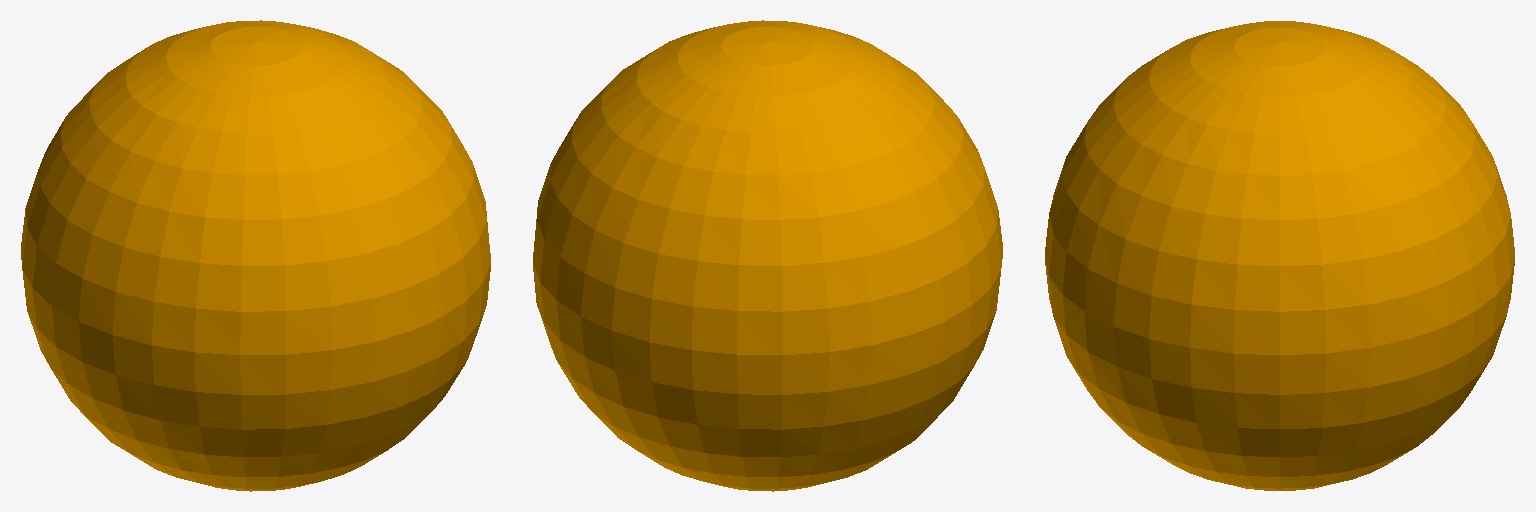
URDF robot description (light_room3):
<?xml version="1.0" ?>

<robot name="light_room3" xmlns:xi="http://www.w3.org/2001/XInclude"
	xmlns:gazebo="http://playerstage.sourceforge.net/gazebo/xmlschema/#gz"
	xmlns:model="http://playerstage.sourceforge.net/gazebo/xmlschema/#model"
	xmlns:sensor="http://playerstage.sourceforge.net/gazebo/xmlschema/#sensor"
	xmlns:body="http://playerstage.sourceforge.net/gazebo/xmlschema/#body"
	xmlns:geom="http://playerstage.sourceforge.net/gazebo/xmlschema/#geom"
	xmlns:joint="http://playerstage.sourceforge.net/gazebo/xmlschema/#joint"
	xmlns:interface="http://playerstage.sourceforge.net/gazebo/xmlschema/#interface"
	xmlns:rendering="http://playerstage.sourceforge.net/gazebo/xmlschema/#rendering"
	xmlns:renderable="http://playerstage.sourceforge.net/gazebo/xmlschema/#renderable"
	xmlns:controller="http://playerstage.sourceforge.net/gazebo/xmlschema/#controller"
	xmlns:physics="http://playerstage.sourceforge.net/gazebo/xmlschema/#physics">

  <link name="bulb_r3">
   <inertial>
	<mass value="1" />
			<com xyz="4.36 2.1 1.9" />
			<inertia ixx="0" ixy="0.0" ixz="0.0" iyy="0" iyz="0.0" izz="0" />
		</inertial>

		<visual>
			<origin xyz="4.36 2.1 1.9" rpy="0 0 0" />  <!--   definition of the visual postion of the object!! -->
			<geometry>
				<sphere radius="0.0001" />
			</geometry>
		</visual>
		<collision>
			<origin xyz="4.36 2.1 1.9" rpy="0 0 0" />
			<geometry>
				<sphere radius="0.0001" />
			</geometry>
		</collision>
	</link>

	<gazebo reference="bulb_r3">
		<model:renderable name="light_r3">
			<xyz>4.36 2.1 1.9</xyz>
			<static>true</static>
			<light>
				<type>point</type>
				<diffuseColor>0.1 0.1 0.1</diffuseColor>
				<specularColor>.01 .01 .01</specularColor>
				<attenuation>0.1 0.1 0.0001</attenuation>
				<range>4</range>
			</light>
		</model:renderable>
	</gazebo>
</robot>

--- Render facts (derived) ---
Views: 3 orthographic renders of the robot side by side, from view 1: azimuth 30°, elevation 25°; view 2: azimuth 150°, elevation 25°; view 3: azimuth 270°, elevation 25°.
Robot: light_room3 — 1 links, 0 joints (none); root link bulb_r3; default pose: all joints at 0.
Links seen in each view (by area): view 1: bulb_r3; view 2: bulb_r3; view 3: bulb_r3.
Boxes of the visible links, x1,y1,x2,y2 form: bulb_r3: (21,20,490,491); bulb_r3: (533,20,1002,491); bulb_r3: (1045,21,1514,490).
Size in the robot's own frame: 0.0002 by 0.0002 by 0.0002 metres.
Geometry: primitives only (box / cylinder / sphere), no mesh files.